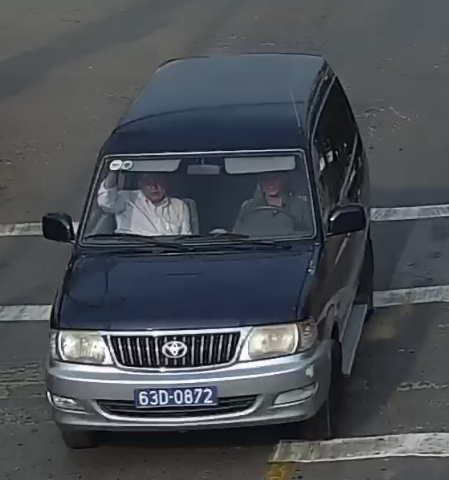vehicle plate: (131, 384, 224, 411)
